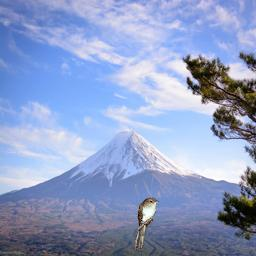Cuckoo: (134, 197, 159, 250)
